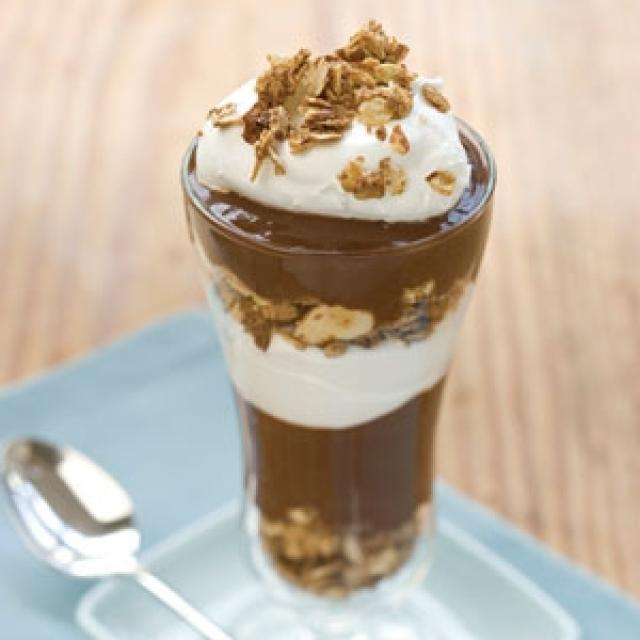蛋糕甜品: (100, 28, 540, 623)
